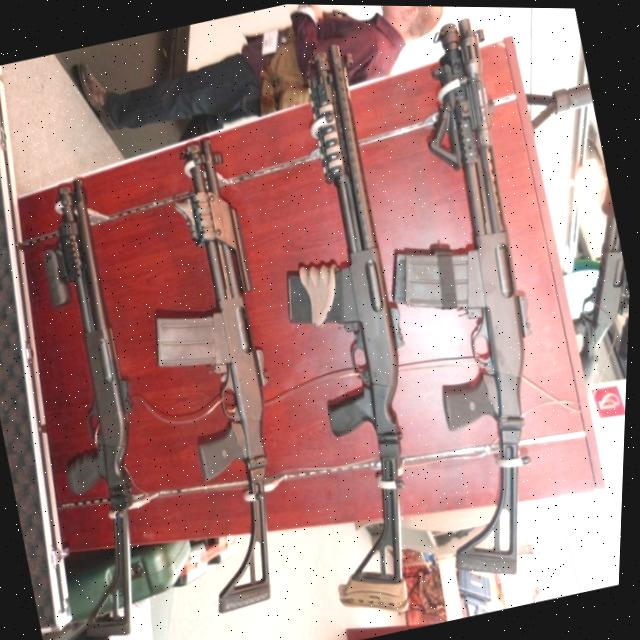firearm: (330, 9, 607, 587), (217, 38, 469, 624), (105, 134, 328, 617), (0, 173, 190, 640)
